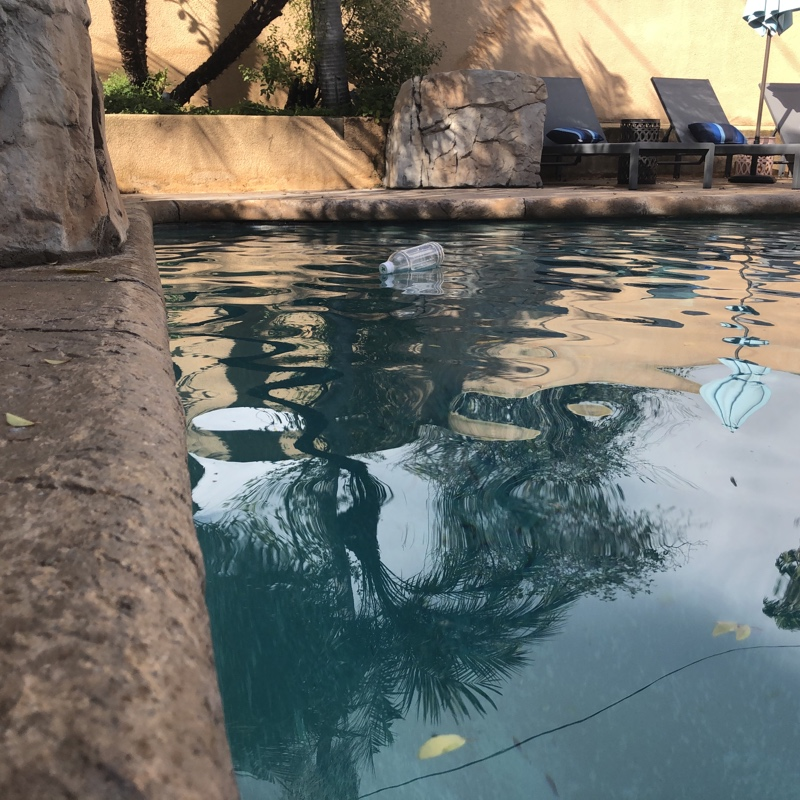Plastic Bottle: (378, 236, 446, 278)
